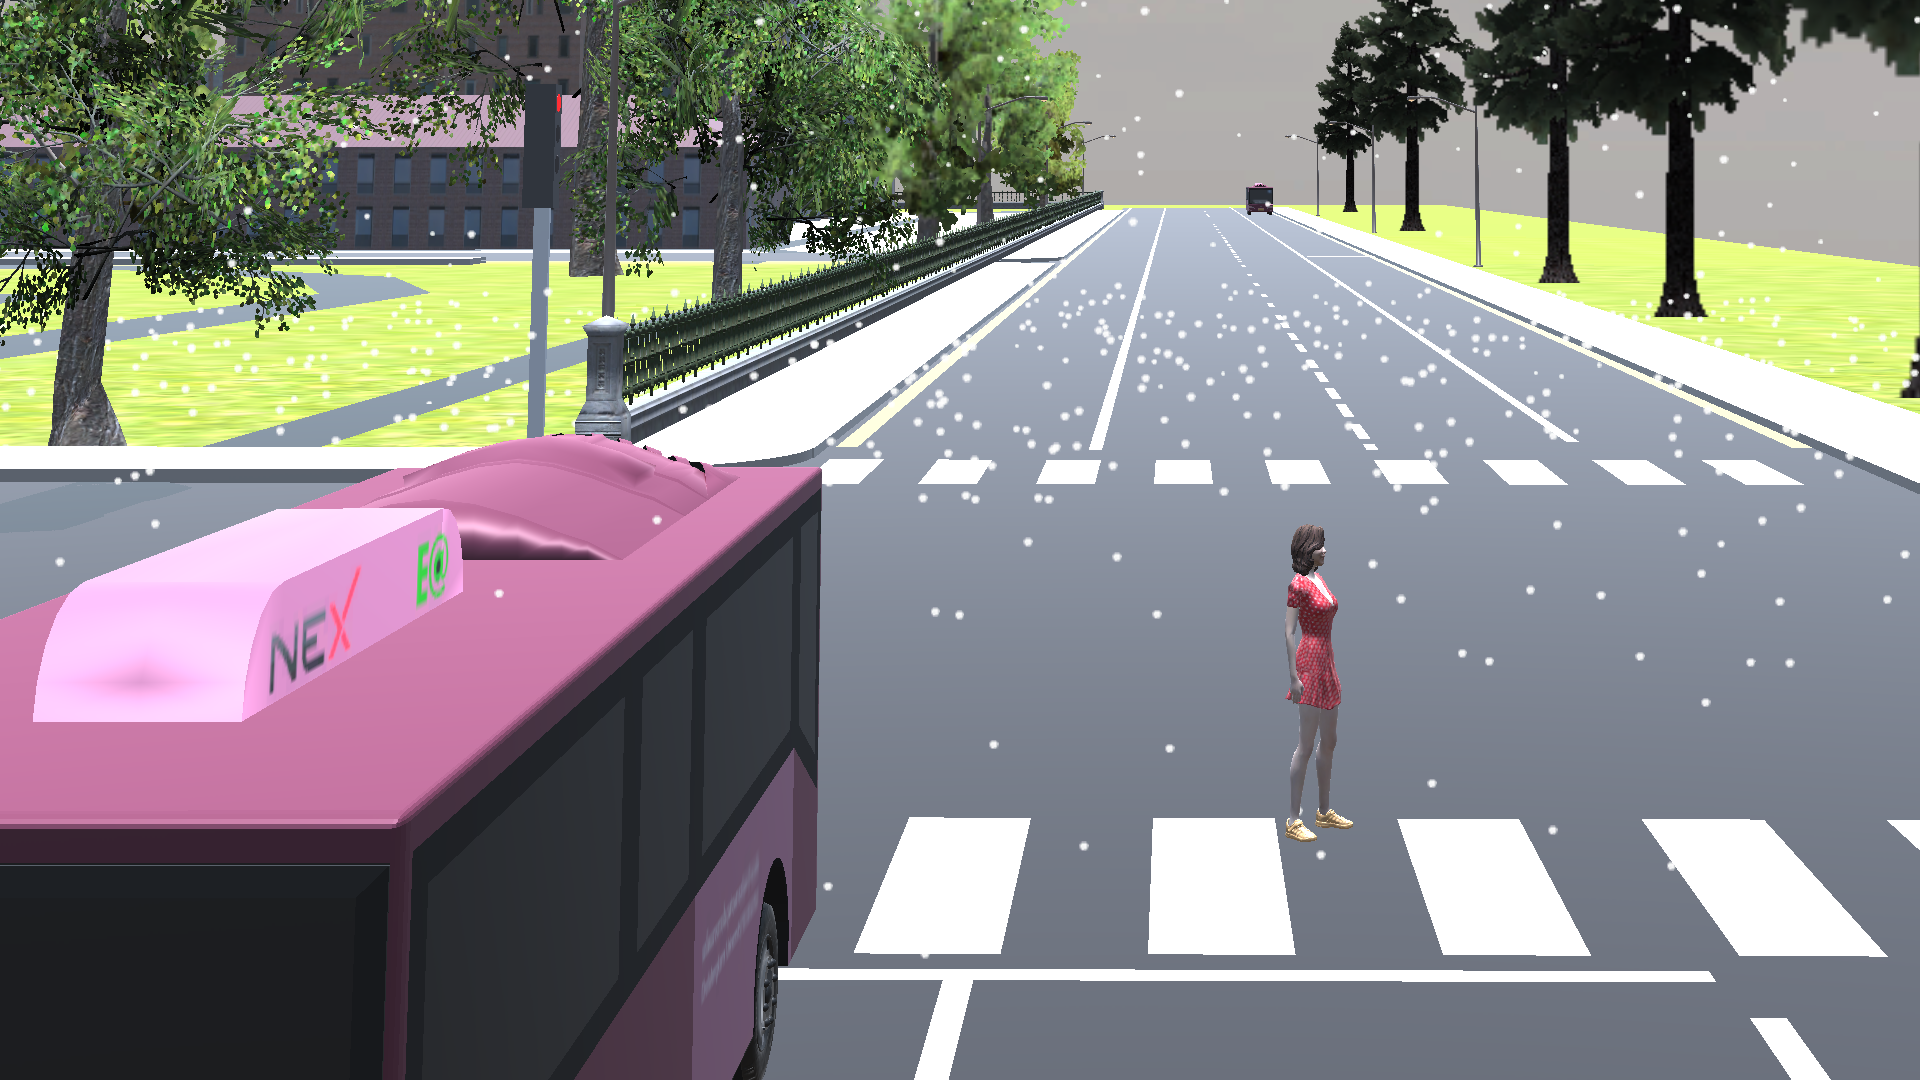pedestrian: (1268, 513, 1377, 845)
